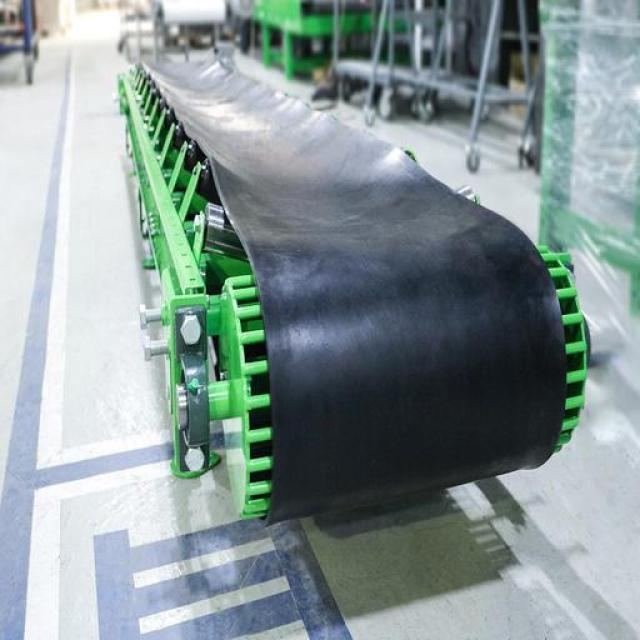conveyor: (140, 55, 563, 521)
